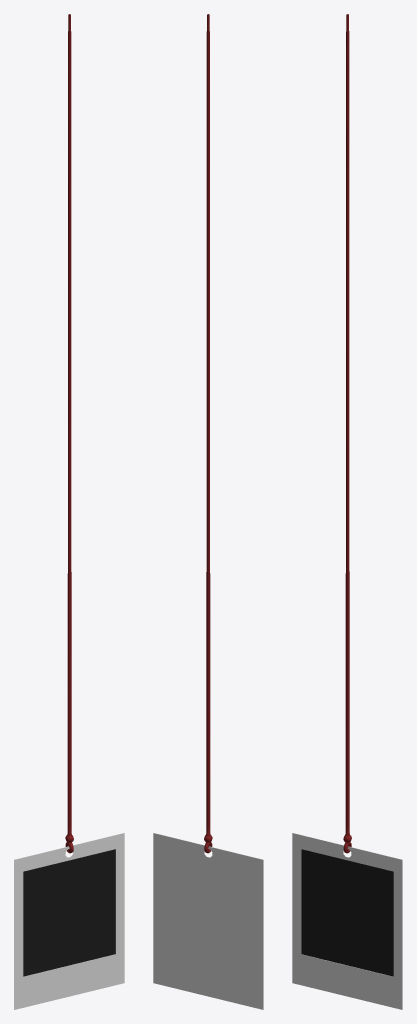
The model's file is Polaroid.fbx.
3 views of the same model, side by side, from view 1: azimuth 30°, elevation 25°; view 2: azimuth 150°, elevation 25°; view 3: azimuth 330°, elevation 25° (orthographic).
Visible parts, largest first — view 1: Circle.000; view 2: Circle.000; view 3: Circle.000.
Boxes of the visible parts, <box> form: Circle.000: <box>14,14,124,1009</box>; Circle.000: <box>153,14,263,1009</box>; Circle.000: <box>292,14,402,1009</box>.
Bounding box in the file's own units: 200 × 1706 × 18.91.
